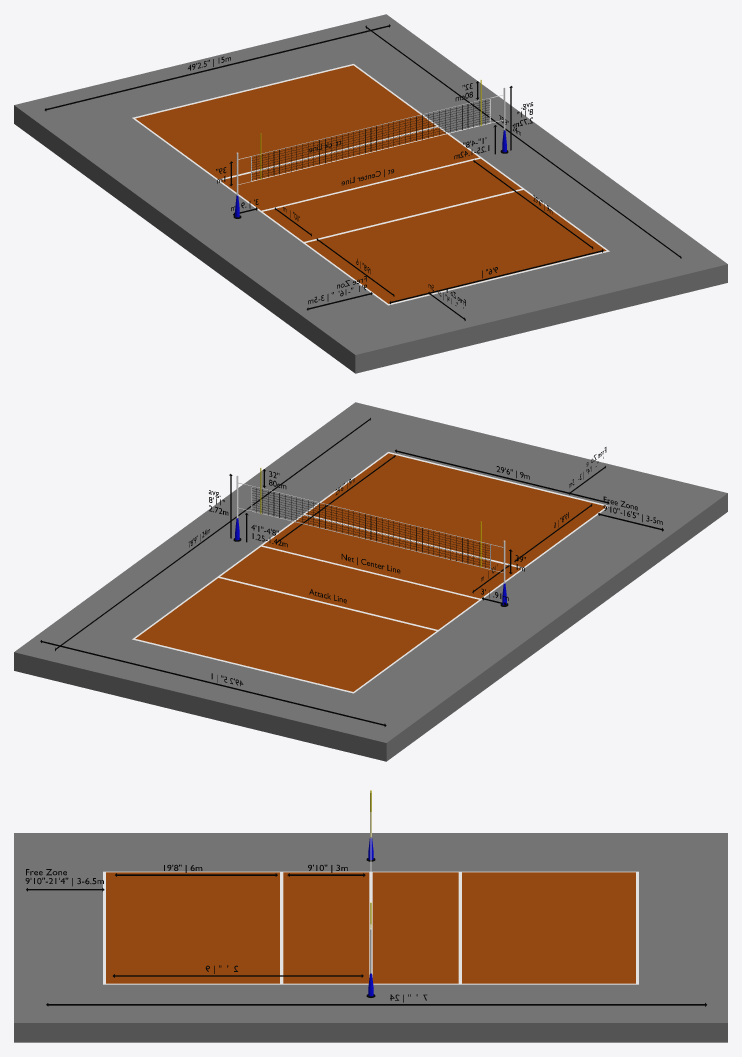
Rendered from volleyball.fbx.
3 renders of one model, top to bottom at view 1: azimuth 30°, elevation 25°; view 2: azimuth 150°, elevation 25°; view 3: azimuth 270°, elevation 25°, orthographic. The views are drawn at different scales.
Visible parts, largest first — view 1: fllor, net, Plane.006, Plane.005; view 2: fllor, net, Plane.006, Plane.005; view 3: fllor, Plane.005, net, Plane.004.
Part boxes in pixels (x1,y1,x2,y2): fllor: (14, 14, 727, 373); net: (233, 87, 508, 218); Plane.006: (44, 24, 390, 111); Plane.005: (365, 25, 681, 258); fllor: (14, 402, 727, 761); net: (233, 475, 508, 606); Plane.006: (40, 640, 386, 726); Plane.005: (55, 418, 370, 650); fllor: (14, 833, 727, 1042); Plane.005: (46, 1003, 706, 1006); net: (366, 793, 375, 997); Plane.004: (113, 974, 363, 977).
Size of the model in its own units: 4551 by 1127 by 7226.
